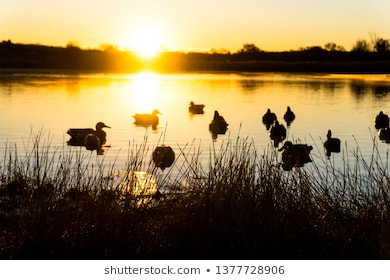duck: (67, 122, 116, 151), (132, 107, 167, 129)
